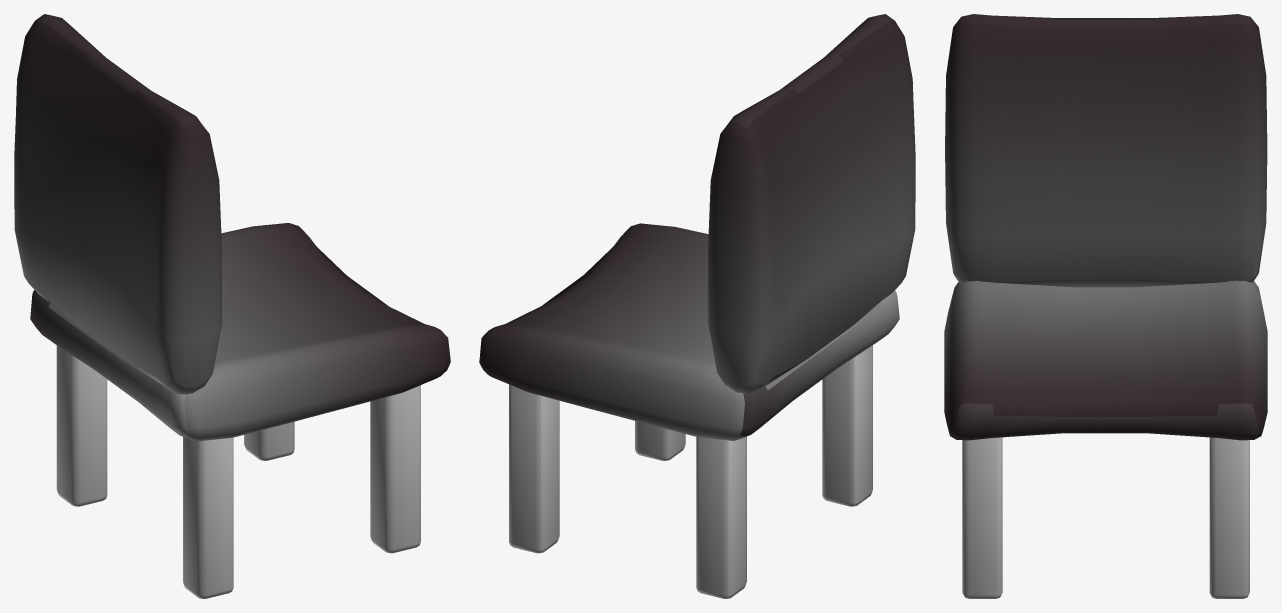
File: Props_Chair_02.fbx
3 renders of one model, left to right at view 1: azimuth 30°, elevation 25°; view 2: azimuth 150°, elevation 25°; view 3: azimuth 270°, elevation 25°, orthographic. The views are drawn at different scales.
Visible parts, largest first — view 1: Props_Chair_02; view 2: Props_Chair_02; view 3: Props_Chair_02.
Boxes of the visible parts, x1,y1,x2,y2 form: Props_Chair_02: (14,14,450,598); Props_Chair_02: (479,14,915,598); Props_Chair_02: (944,14,1267,598).
Bounding box in the file's own units: 53.9 × 86.97 × 53.47.
